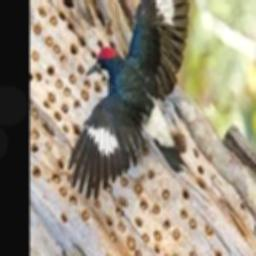Woodpecker: (67, 0, 192, 199)
